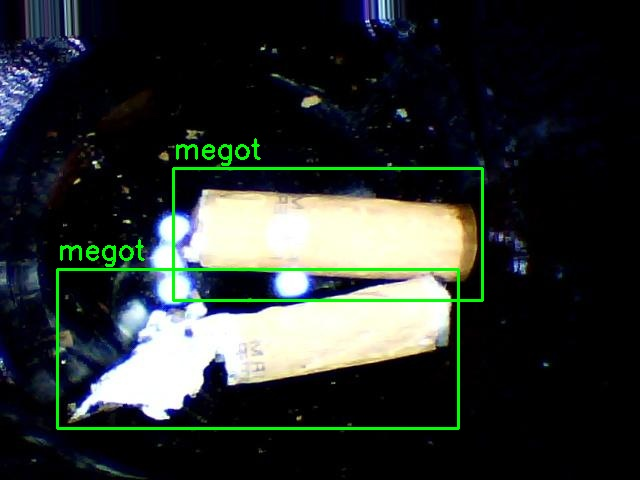megot: (57, 269, 458, 428), (173, 168, 482, 300)
